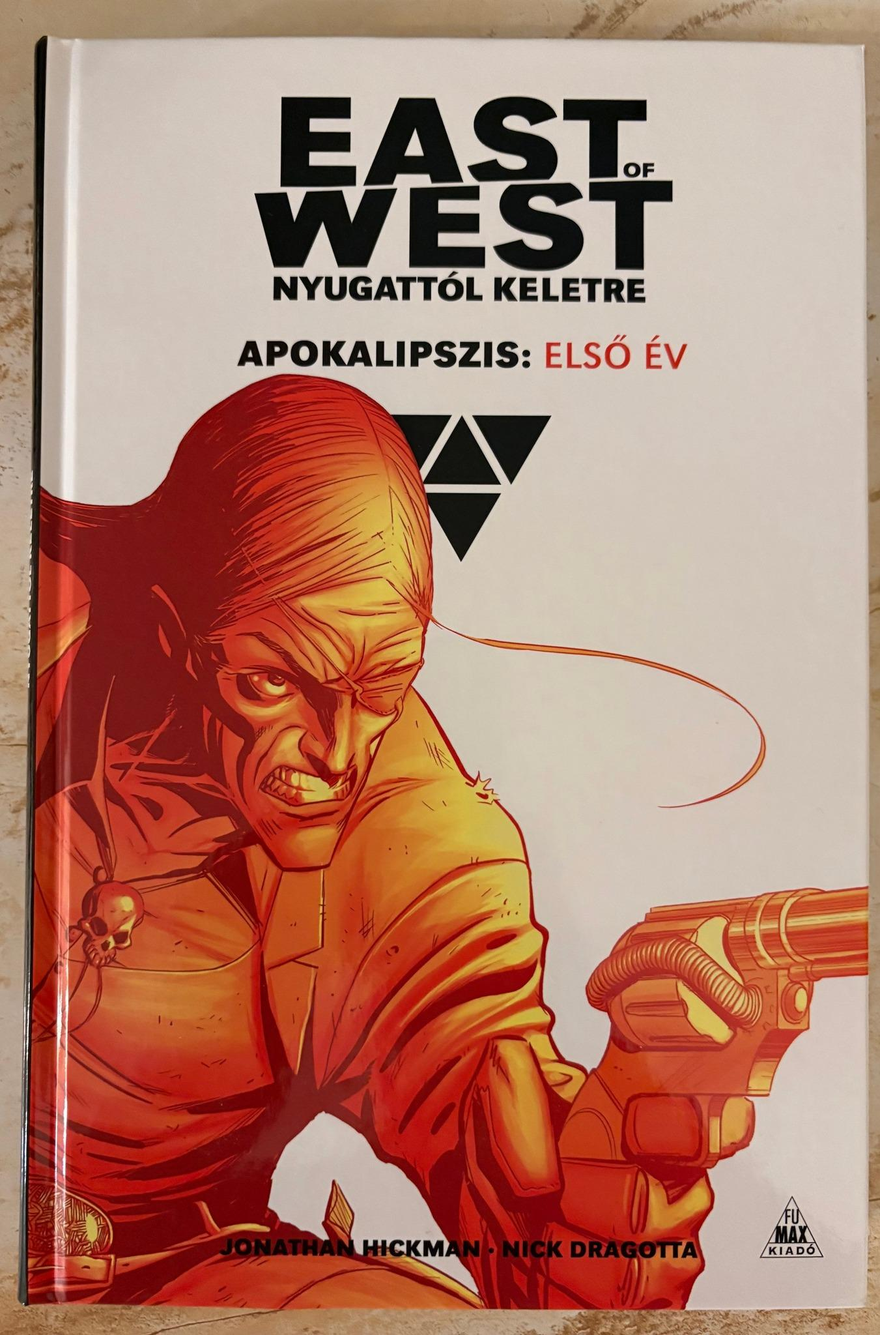comic: (22, 36, 877, 1314)
